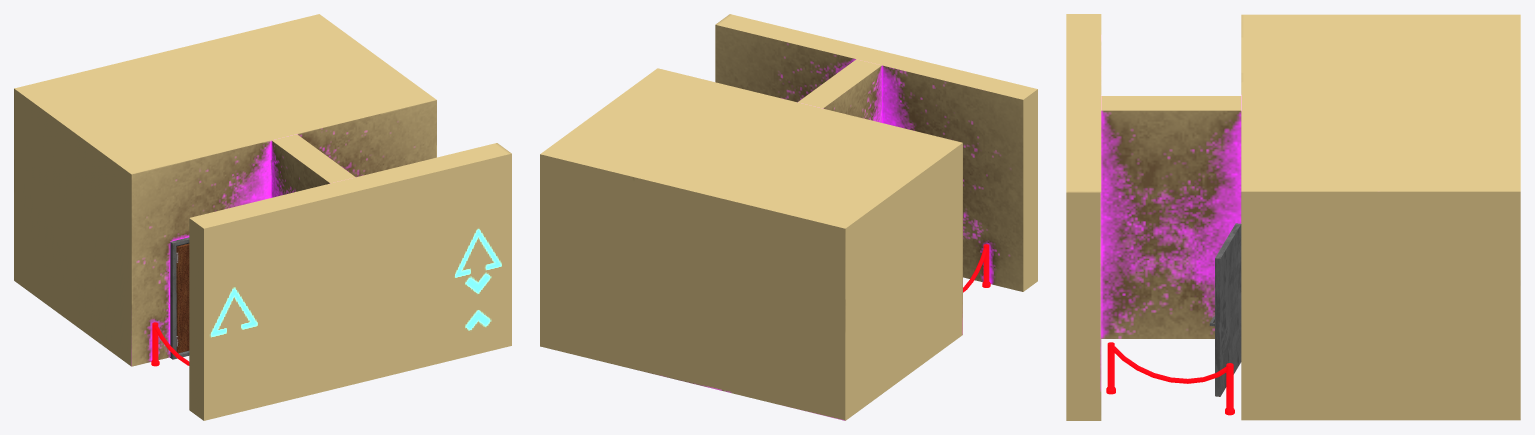
The model's file is bathroom.glb.
3 renders of one model, left to right at view 1: azimuth 30°, elevation 25°; view 2: azimuth 150°, elevation 25°; view 3: azimuth 270°, elevation 25°, orthographic. The views are drawn at different scales.
Parts seen in each view (by area): view 1: bathroom, bathroomdoor, bathroomblock; view 2: bathroom, bathroomblock; view 3: bathroom, bathroomdoor1, bathroomblock1.
Part boxes in pixels (bbox=[...]): bathroom: bbox=[14, 14, 511, 420]; bathroomdoor: bbox=[170, 237, 189, 359]; bathroomblock: bbox=[151, 322, 189, 366]; bathroom: bbox=[540, 14, 1037, 420]; bathroomblock: bbox=[963, 244, 990, 292]; bathroom: bbox=[1066, 14, 1520, 420]; bathroomdoor1: bbox=[1209, 223, 1241, 396]; bathroomblock1: bbox=[1106, 342, 1234, 415].
Size of what is drawn, in the model's own units: 6.05 by 3.69 by 6.51.
4 materials, 2 textured.
